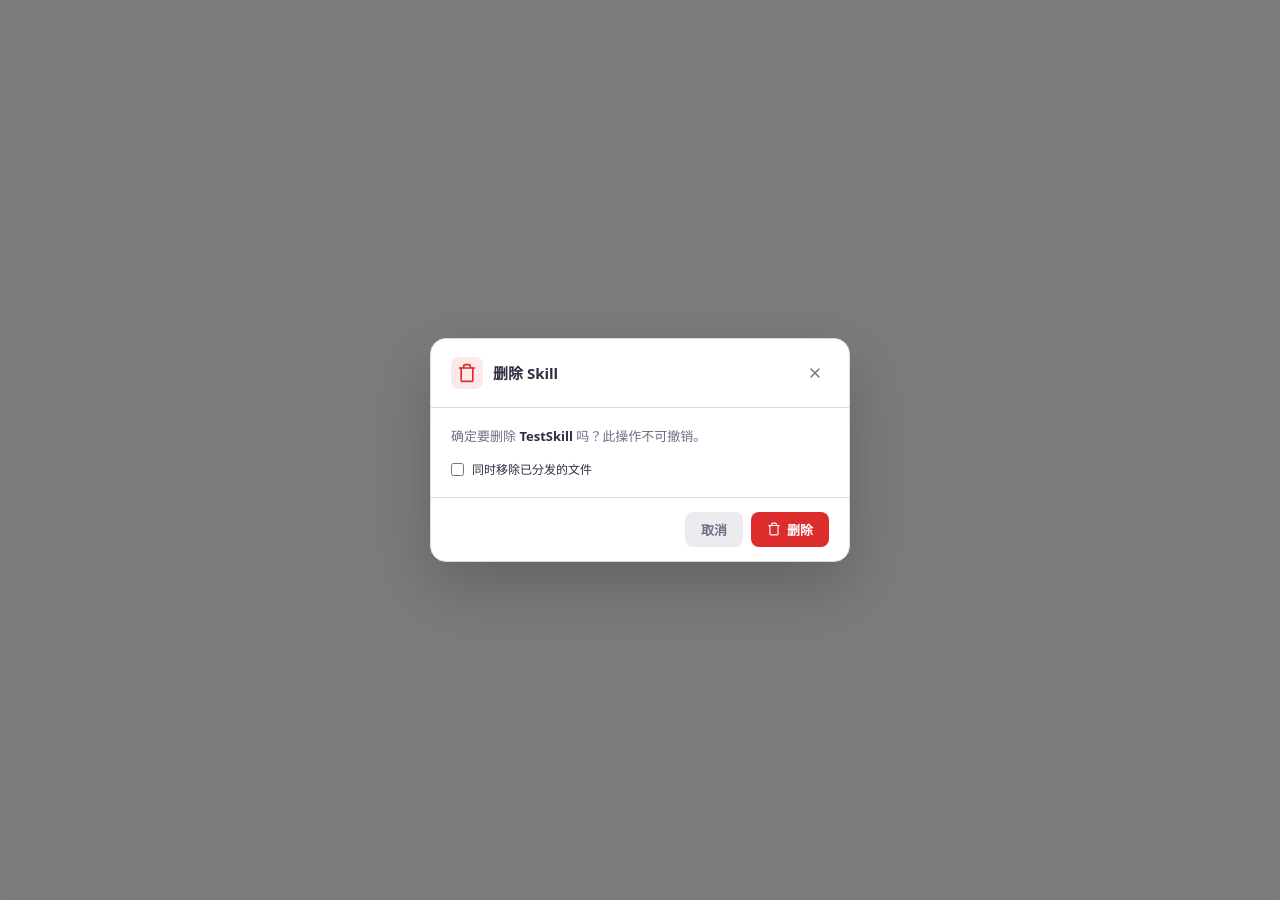
Test: ConfirmDeleteModal › shows platform mode text
Click the checkbox with class "remove-distributed-checkbox".
click(458, 470)  # box [451,463,464,476]
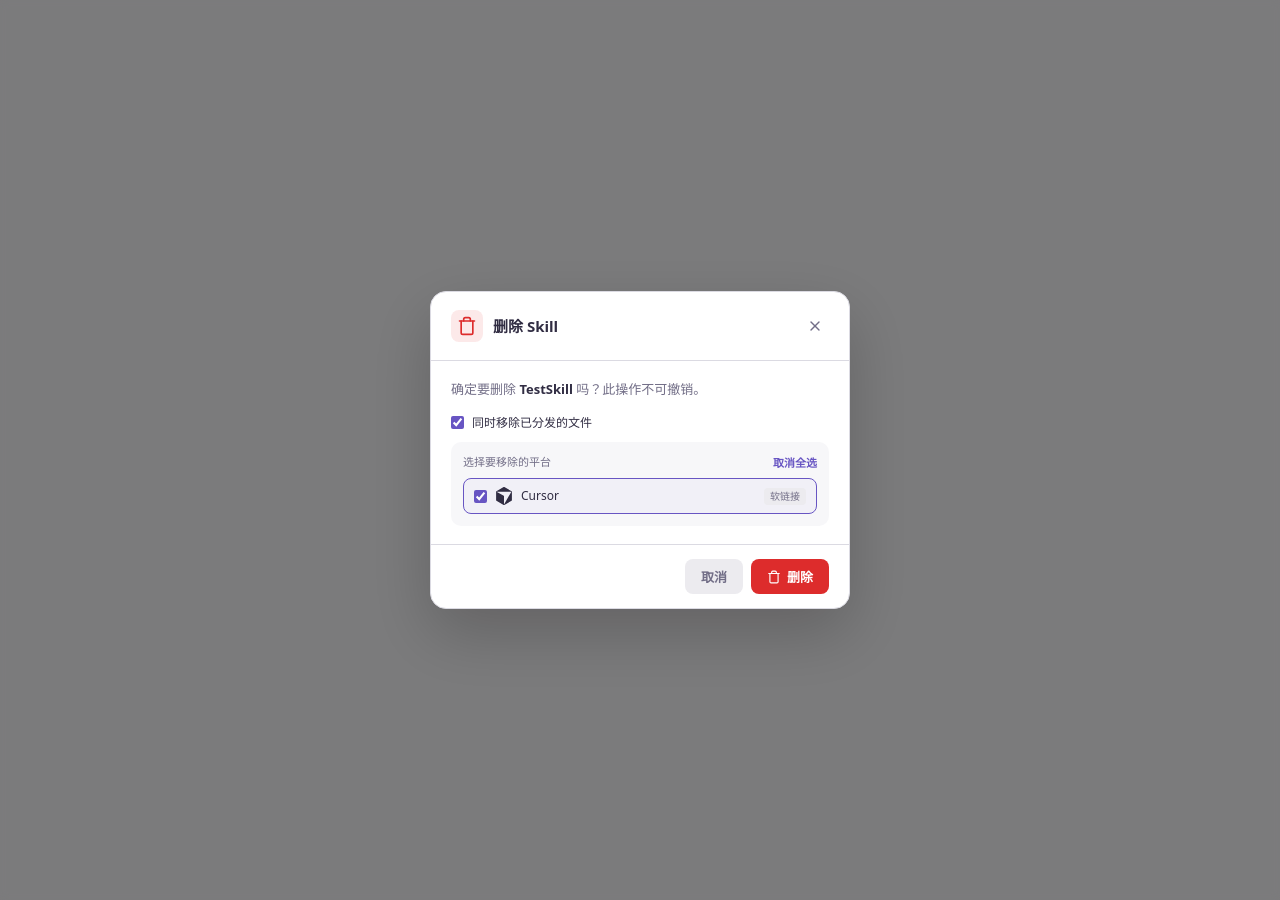
Now the text "软链接" is shown, box [764,488,806,505]
